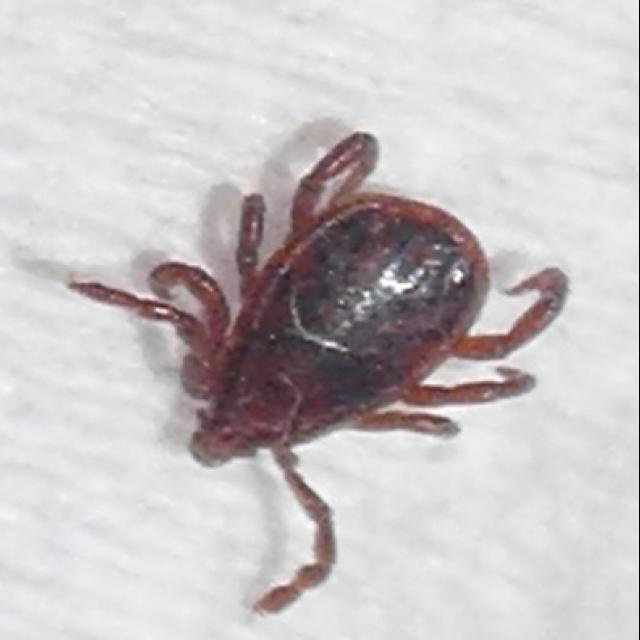Rhipicephalus Sanguineus-M: (69, 130, 569, 614)
